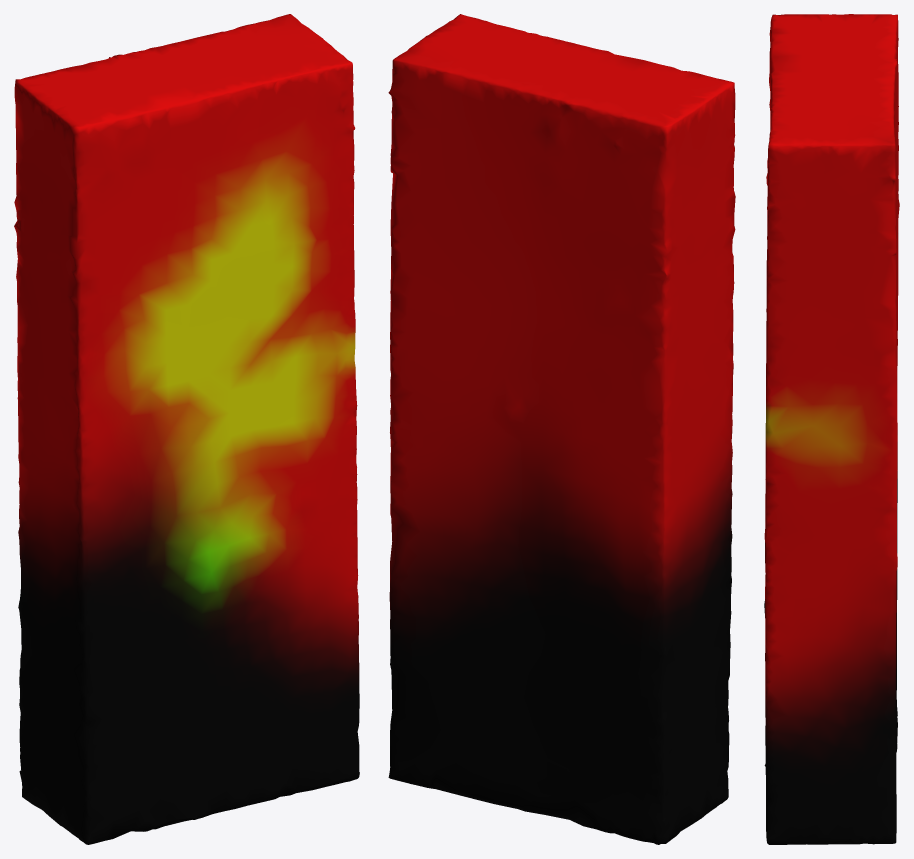
The model's file is SM_LVMaterialSample_Architecture_1.FBX.
The picture shows the model from 3 angles, left to right: view 1: azimuth 30°, elevation 25°; view 2: azimuth 150°, elevation 25°; view 3: azimuth 270°, elevation 25°; orthographic projection. The views are drawn at different scales.
Visible parts, largest first — view 1: SM_LVMaterialSample_Architecture_1_3.3584_LOD0; view 2: SM_LVMaterialSample_Architecture_1_3.3584_LOD0; view 3: SM_LVMaterialSample_Architecture_1_3.3584_LOD0.
Part boxes in pixels (box(x1,y1,x2,y2)): SM_LVMaterialSample_Architecture_1_3.3584_LOD0: box(14, 14, 359, 844); SM_LVMaterialSample_Architecture_1_3.3584_LOD0: box(388, 14, 735, 844); SM_LVMaterialSample_Architecture_1_3.3584_LOD0: box(764, 14, 899, 844).
Size of the model in its own units: 208 by 505 by 88.6.
